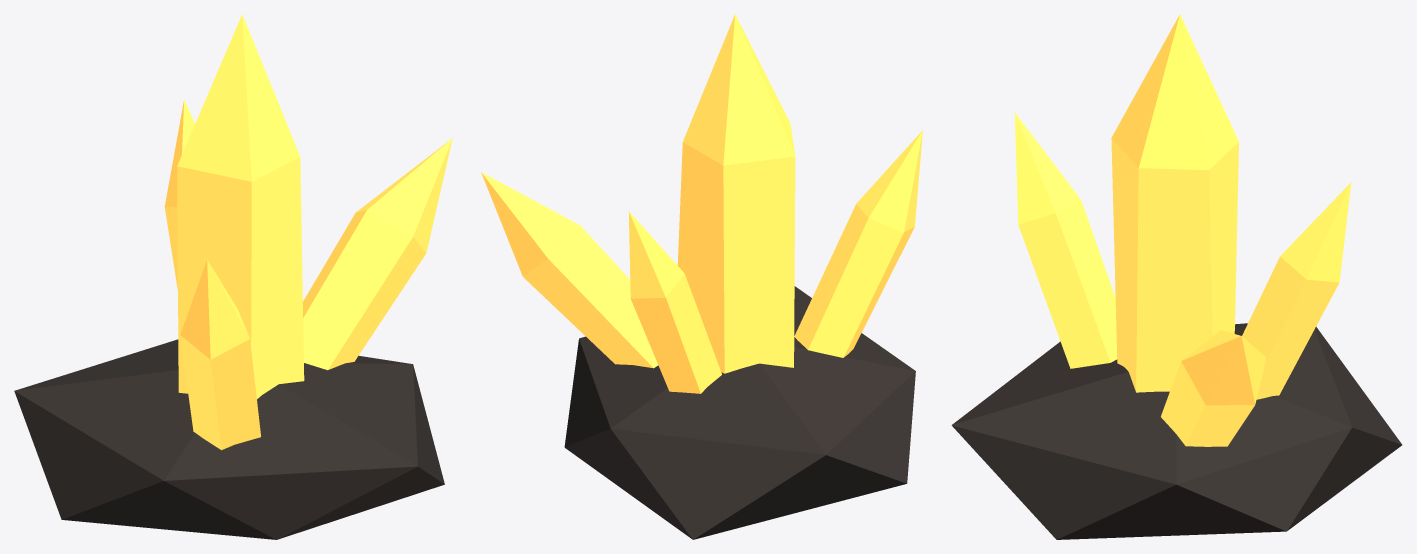
Rendered from wb_crystal_forearm_lod1.glb.
3 views of the same model, side by side, from view 1: azimuth 30°, elevation 25°; view 2: azimuth 150°, elevation 25°; view 3: azimuth 270°, elevation 25° (orthographic). The views are drawn at different scales.
Parts seen in each view (by area): view 1: wb_crystal_forearm_lod1; view 2: wb_crystal_forearm_lod1; view 3: wb_crystal_forearm_lod1.
Part boxes in pixels (bbox=[...]): wb_crystal_forearm_lod1: bbox=[14, 14, 452, 539]; wb_crystal_forearm_lod1: bbox=[481, 14, 922, 539]; wb_crystal_forearm_lod1: bbox=[951, 14, 1402, 539].
Bounding box in the file's own units: 0.9143 × 1.03 × 0.8464.
